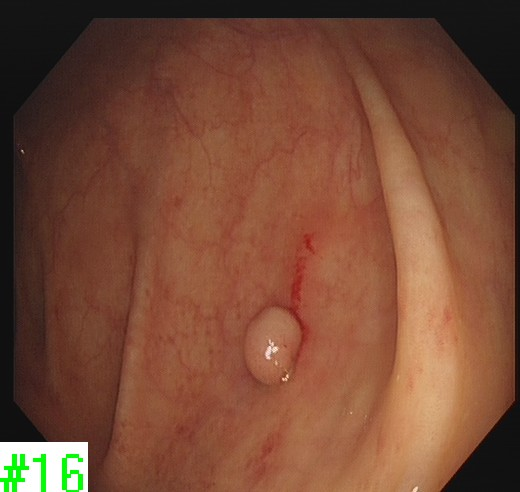adenoma: (240, 302, 306, 389)
